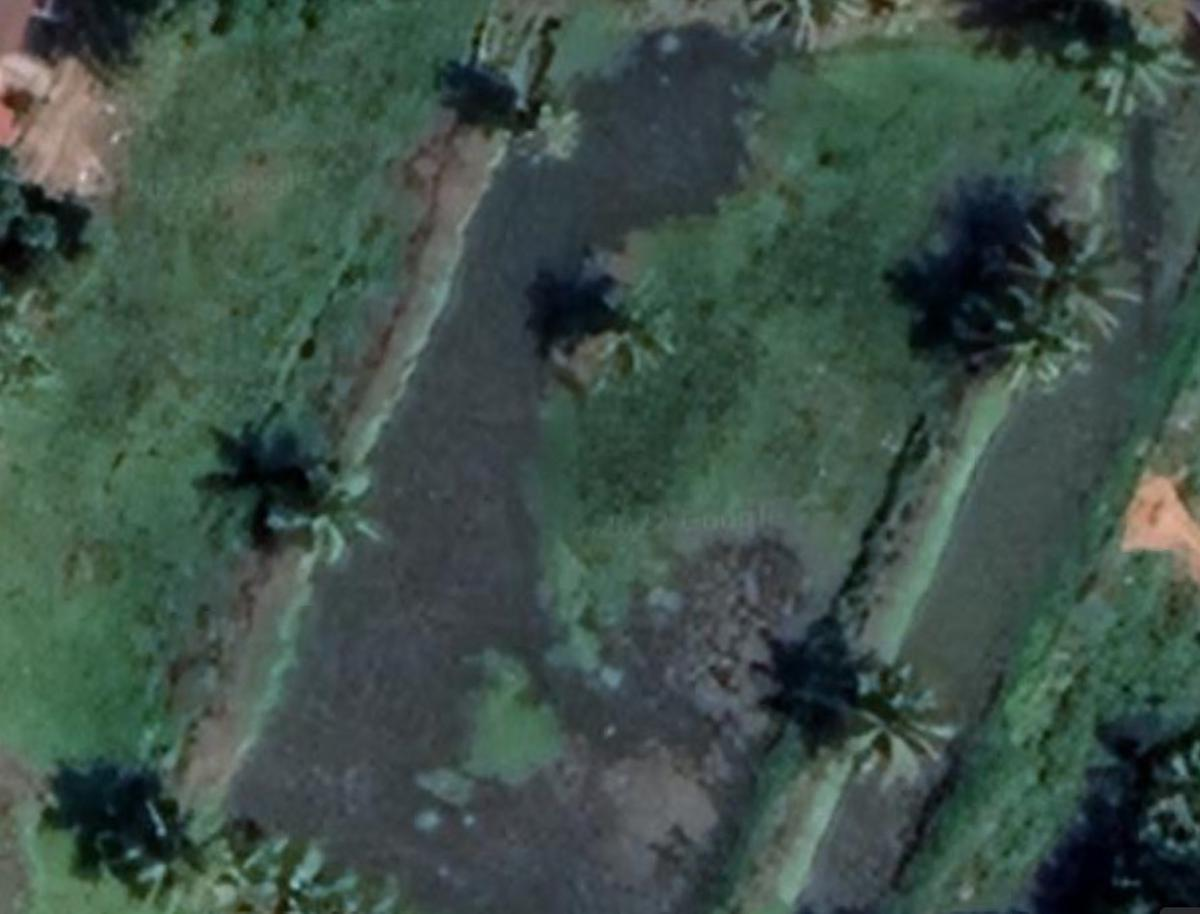coconut: (997, 213, 1151, 343), (829, 652, 966, 796), (966, 280, 1108, 396), (576, 272, 698, 373), (261, 454, 376, 560), (1065, 13, 1182, 116), (95, 793, 214, 893)
